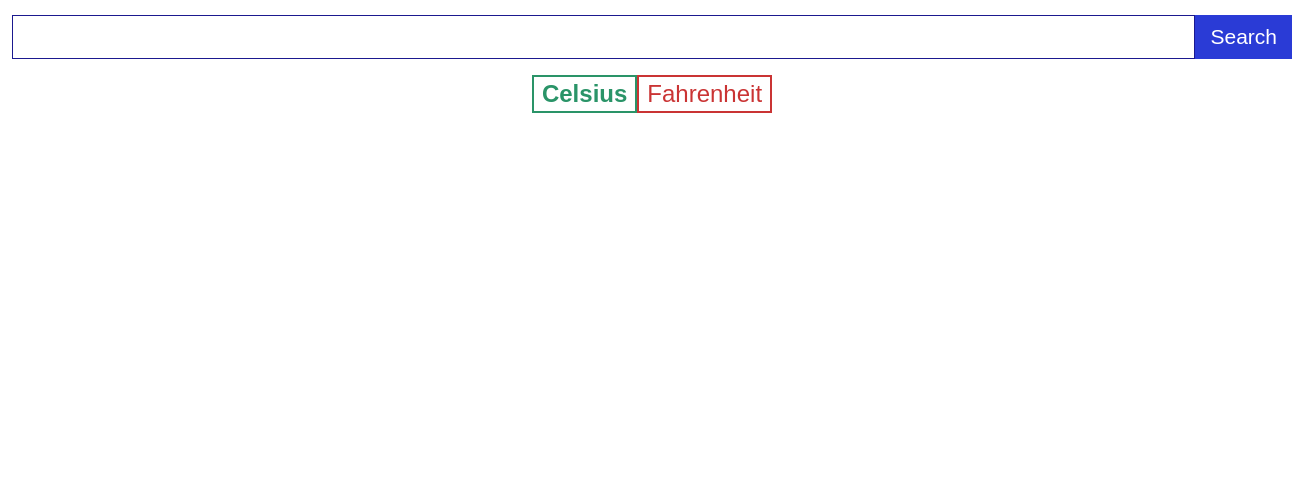
Test: Forecast › Should render the test card and delete it after changing in search input
Step 1. Type "San-francisco" into the field with test id "search-input" → (604,37), box 12,15 -> 1196,59
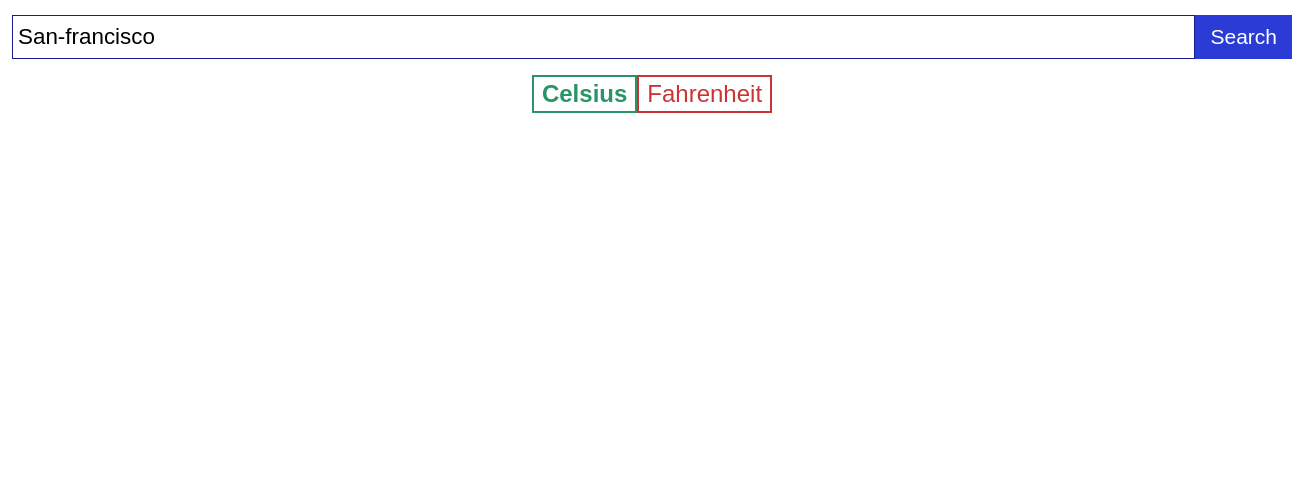
Step 2. Submit the form with test id "forecast-form", box 12,15 -> 1292,113
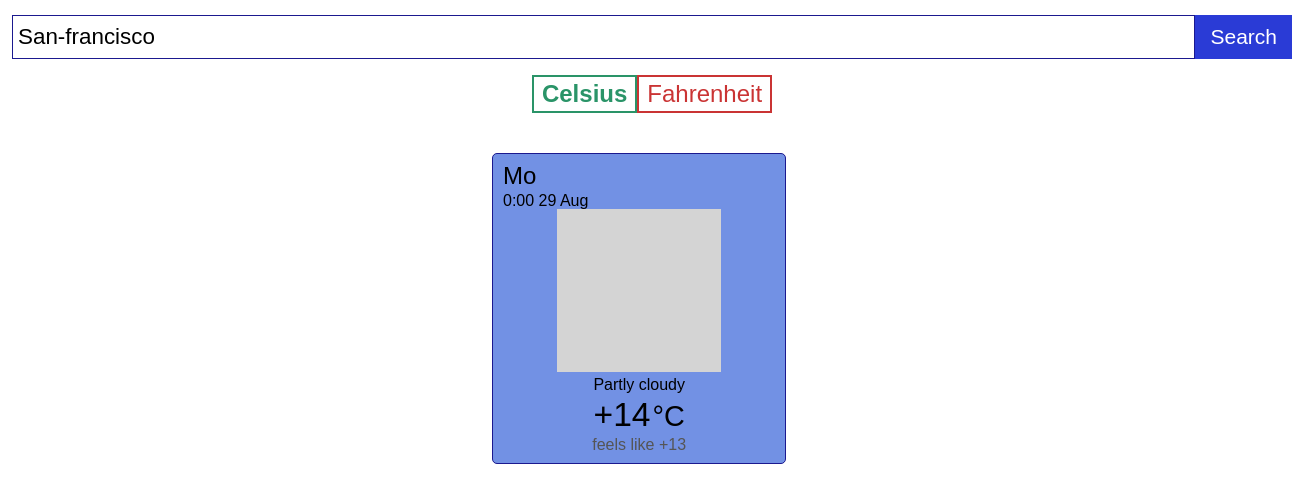
Check: the text "Partly cloudy" is shown, box 593,376 -> 685,393
Step 3. Replace the text in the field with test id "search-input" with "Phoenix" → (604,37), box 12,15 -> 1196,59
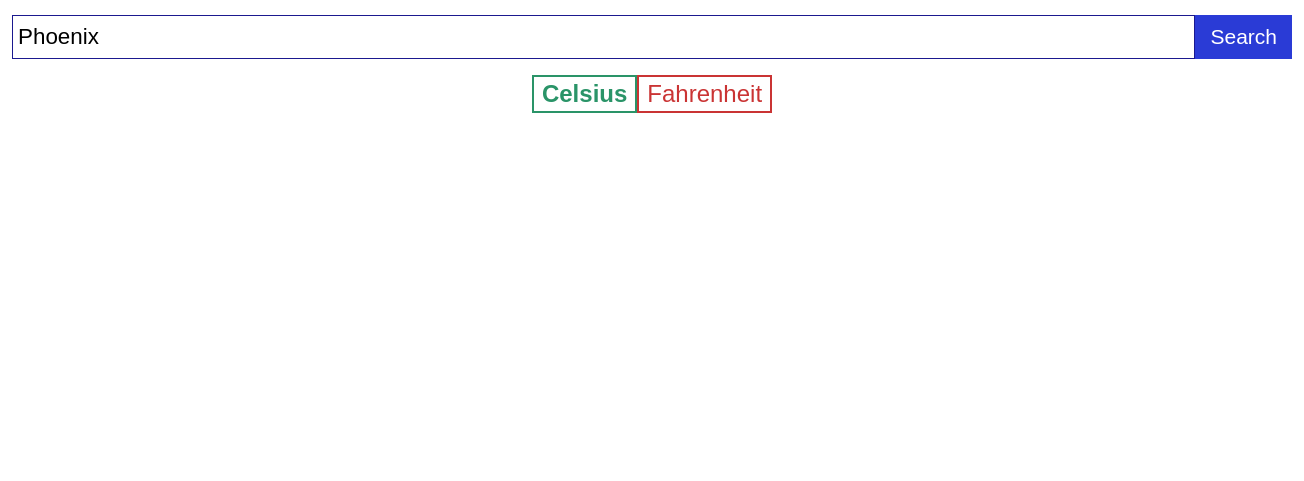
Check: the text "Partly cloudy" is gone
